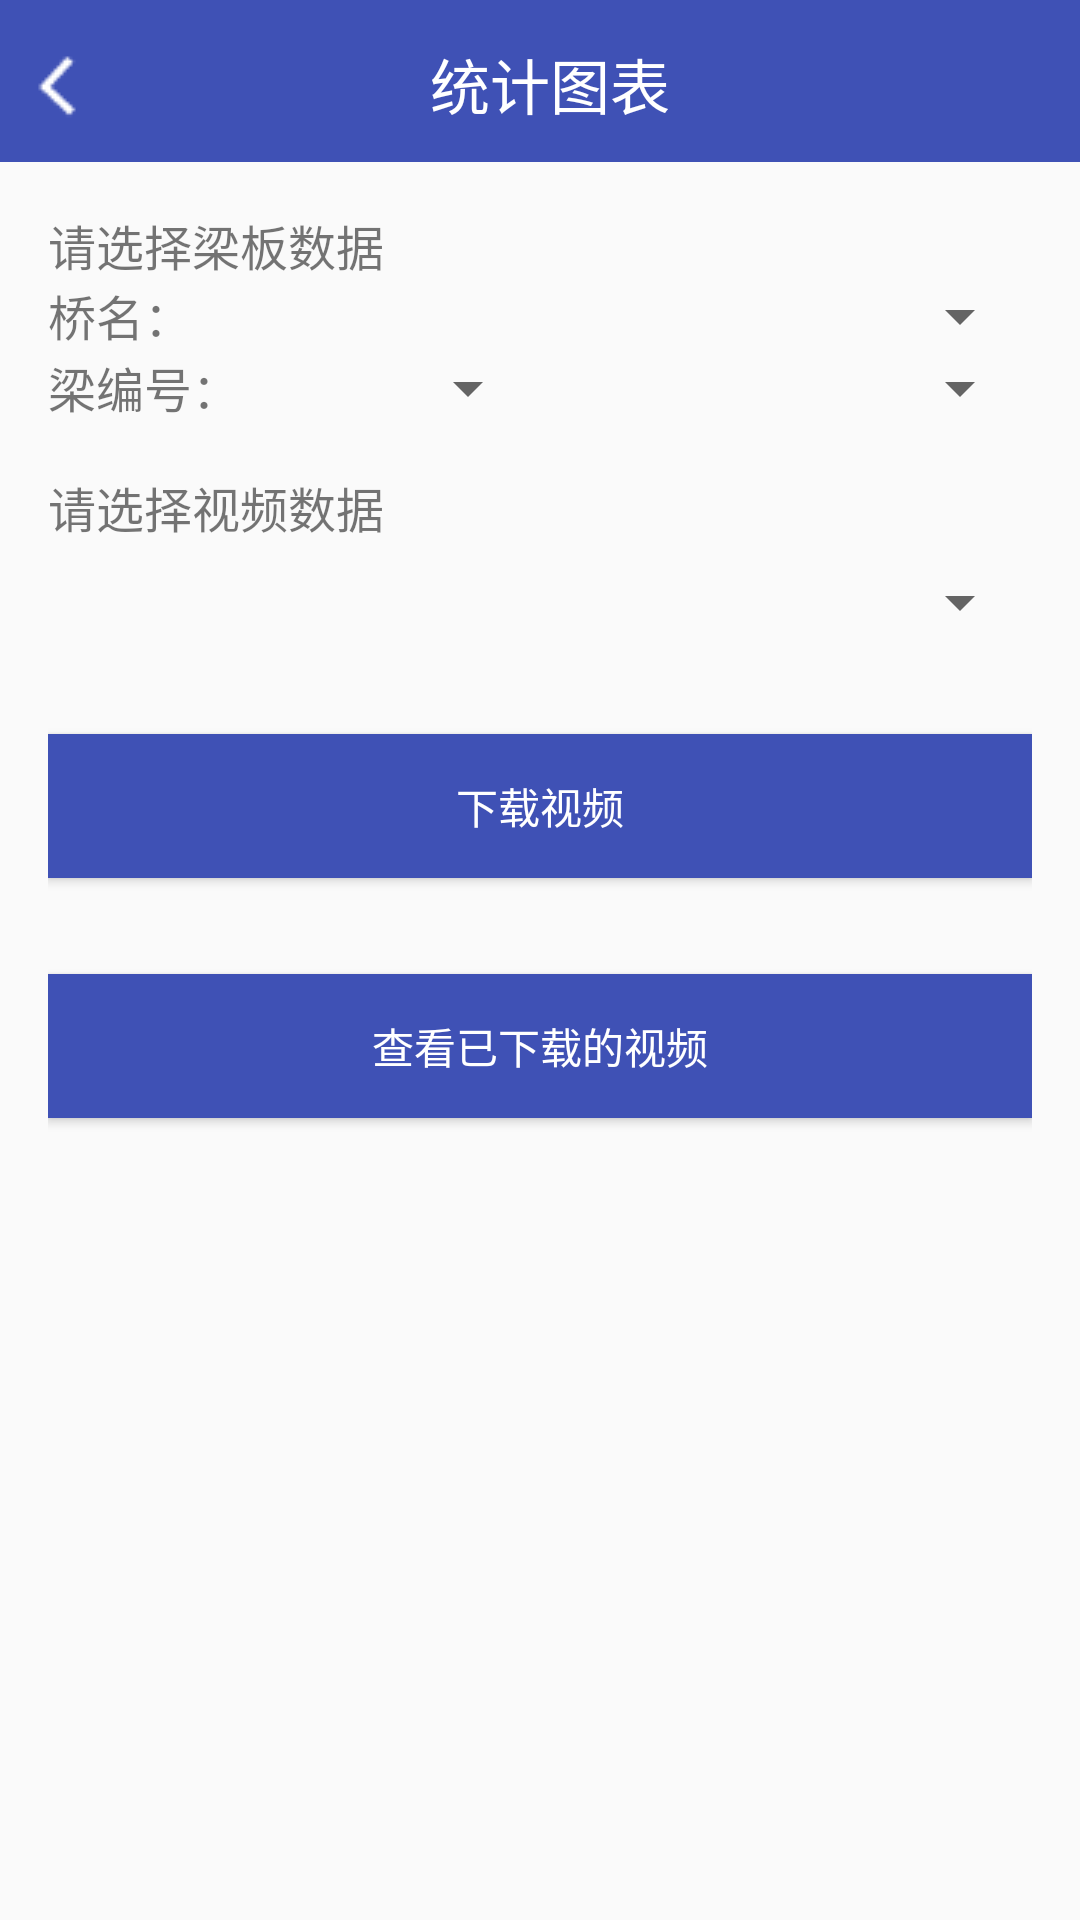

Icon click points for this 1080*1920 phone screenshot, format [x,y]:
back: [57,85]
